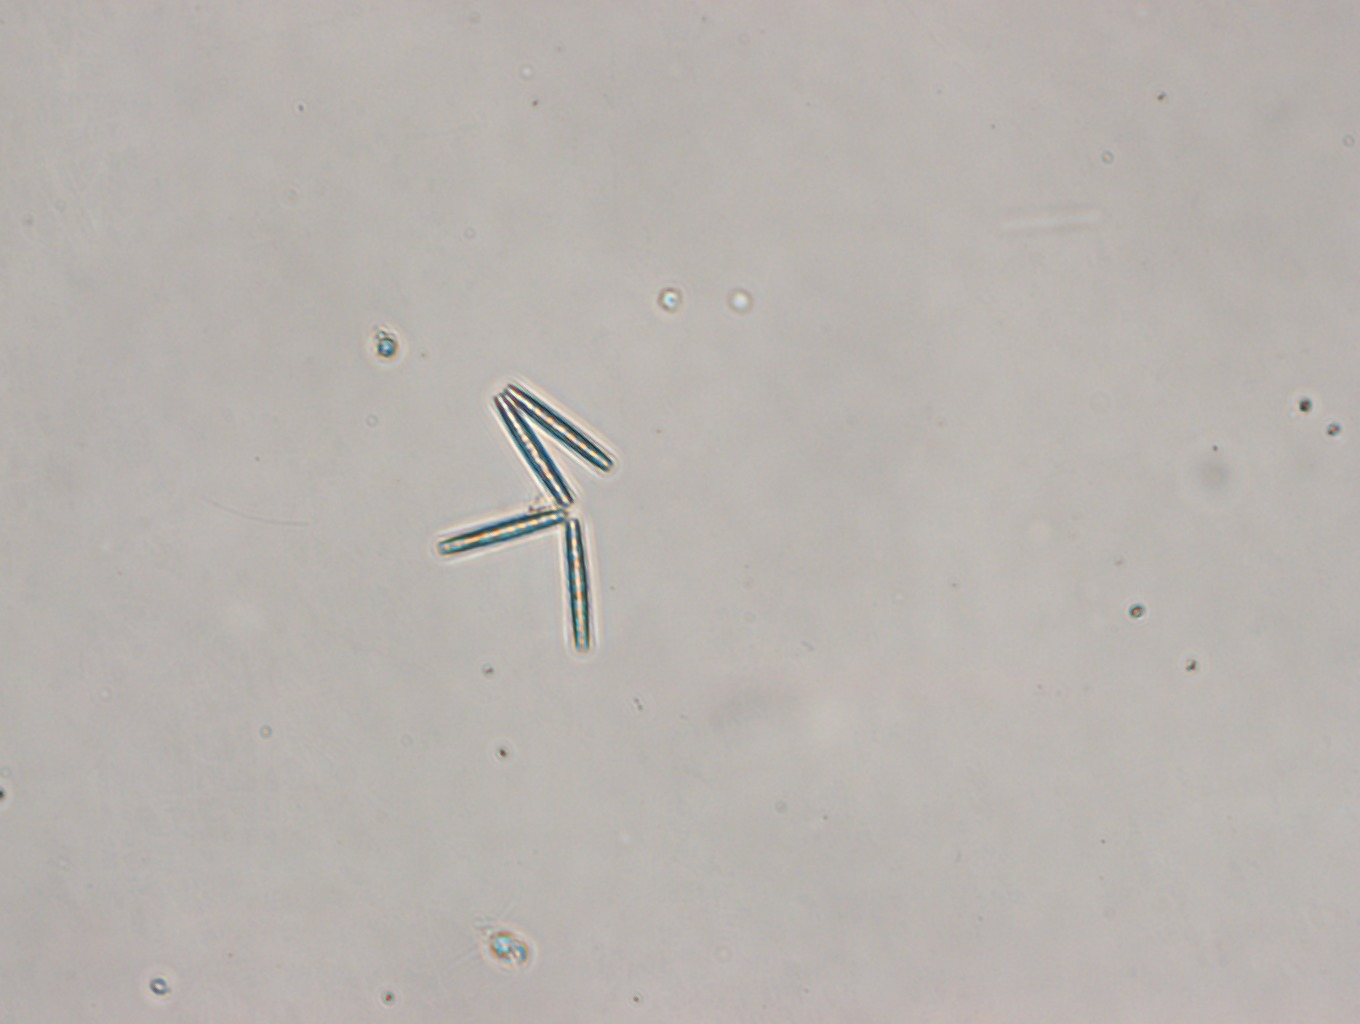thalassionema nitzschioides: (436, 385, 615, 653)
